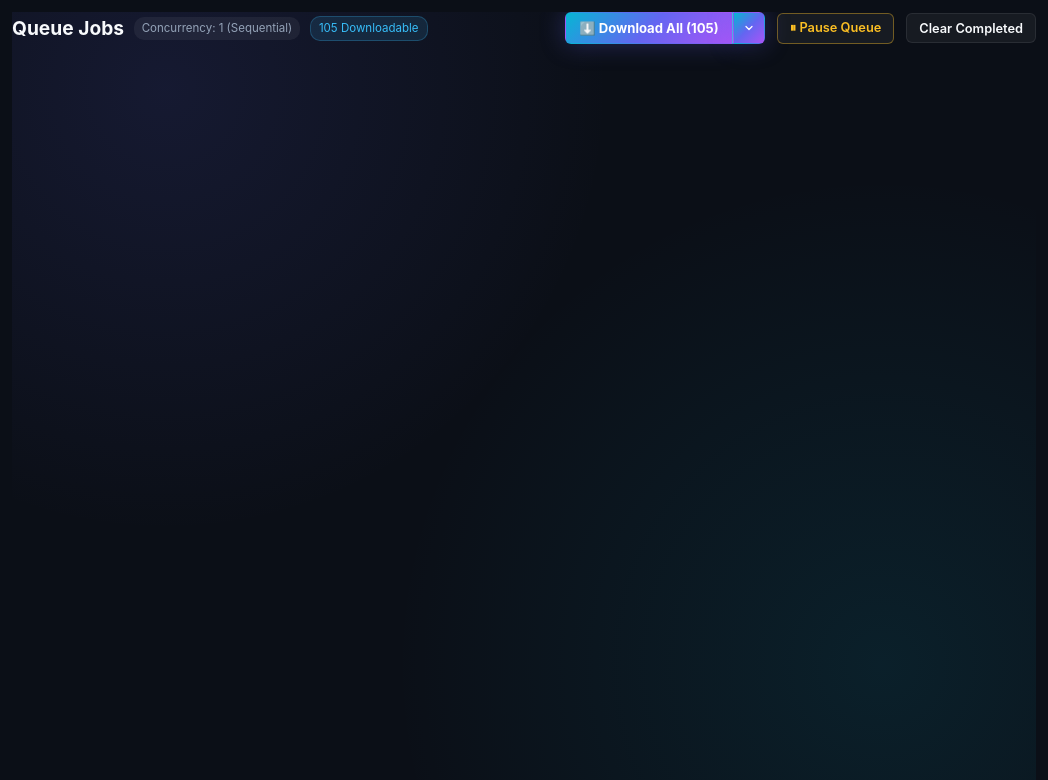
QueueControls Dropdown Suite › displays user-facing error banner when attempting to export ZIP with more than allowed items
Switch to ZIP mode
What coordinates should you click on to do the following:
click the button named "Choose download format"
I would click on:
 (749, 28)
Its box is [733,12,765,44].
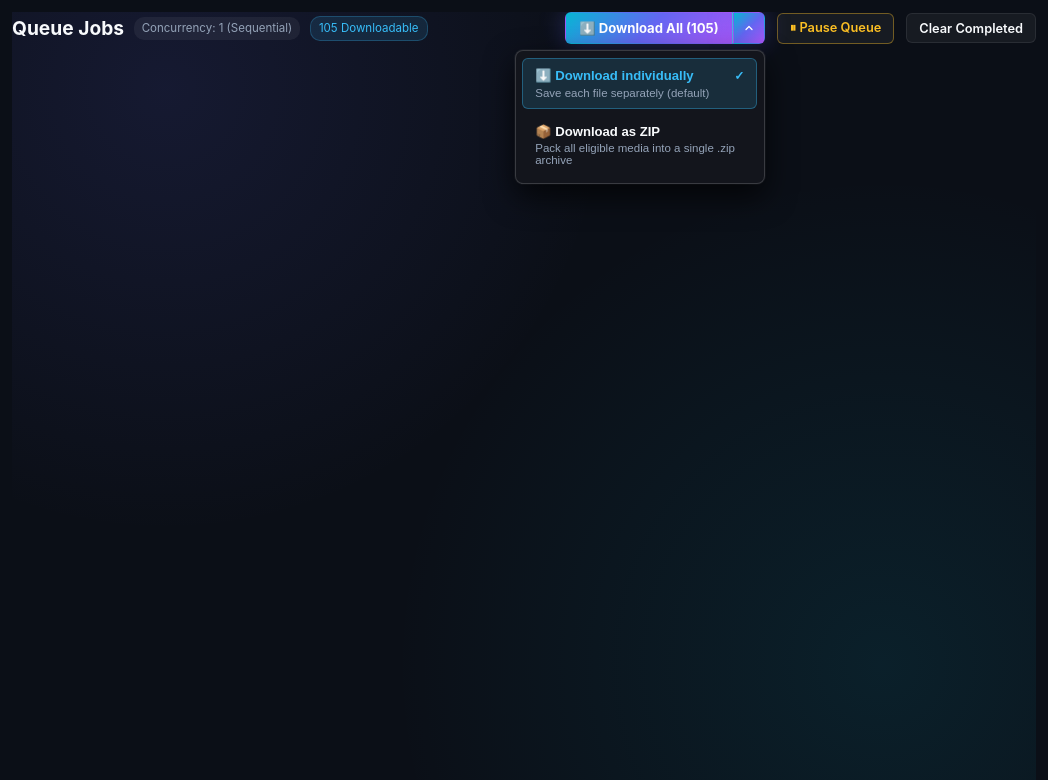
What coordinates should you click on to do the following:
click the text "📦 Download as ZIP"
I would click on:
 (598, 131)
Its box is [535,124,660,139].
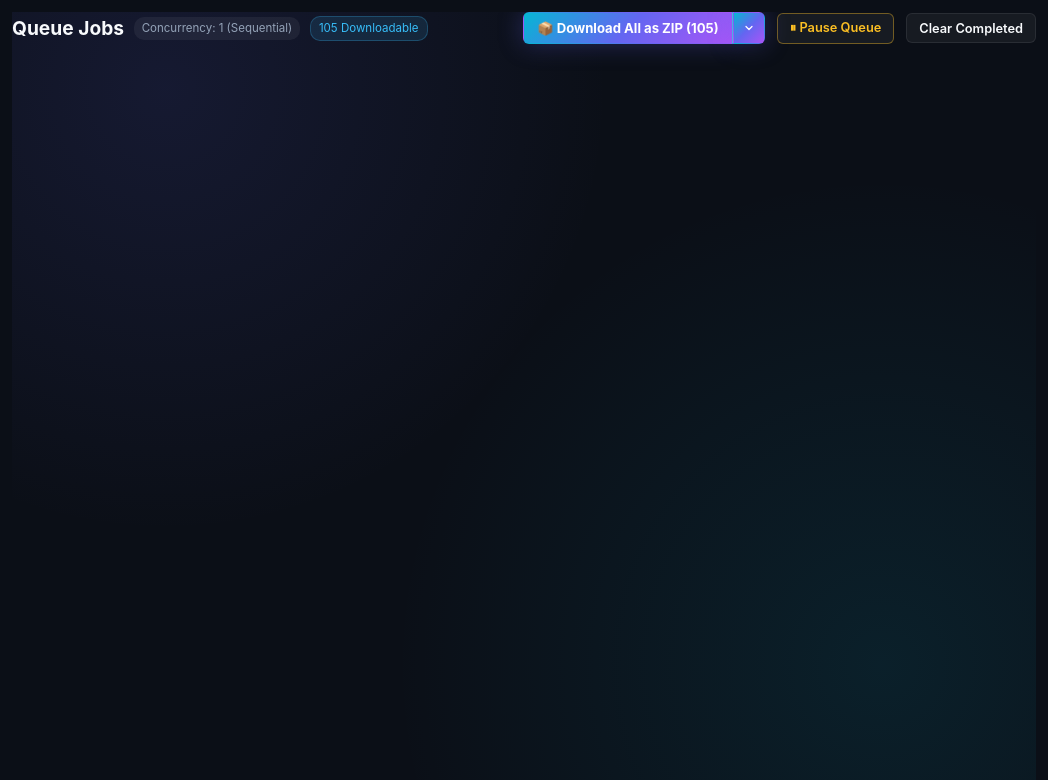
Now the button "📦 Download All as ZIP (105)" is shown
What coordinates should you click on to do the following:
click the button "📦 Download All as ZIP (105)"
I would click on:
 (628, 28)
Its box is [523,12,733,44].
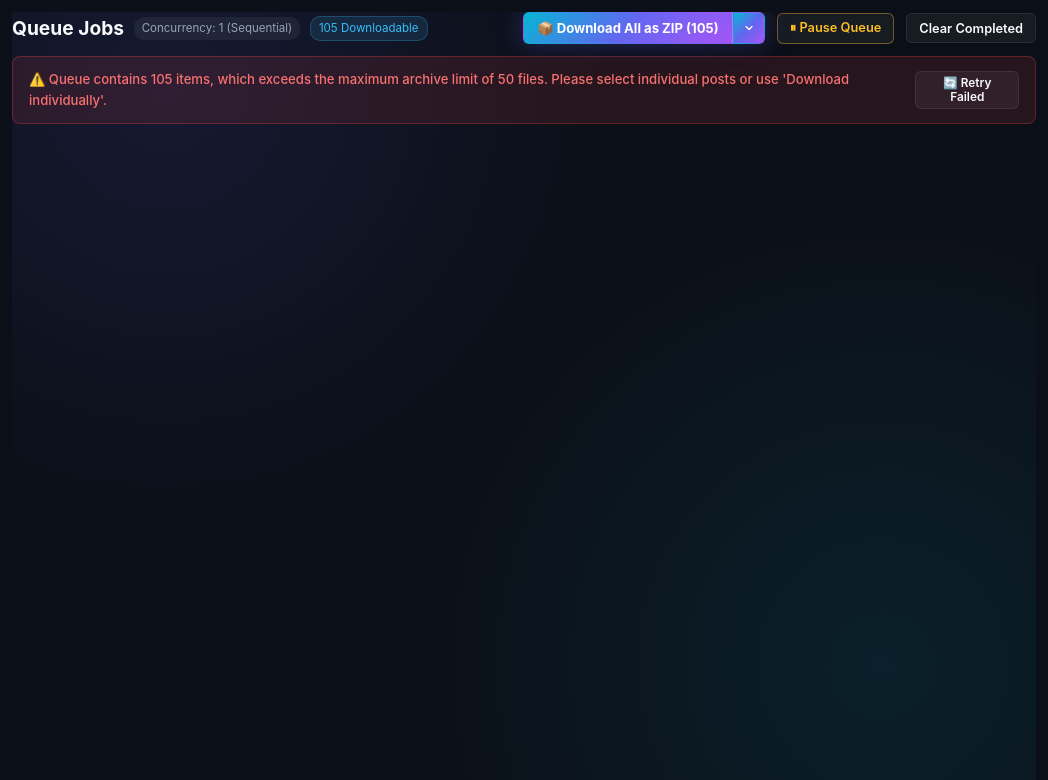
Now the message is shown, box [12,56,1036,124]
Now the message shows "Queue contains 105 items", box [29,71,849,108]
Now the message shows "Download individually", box [29,71,849,108]
